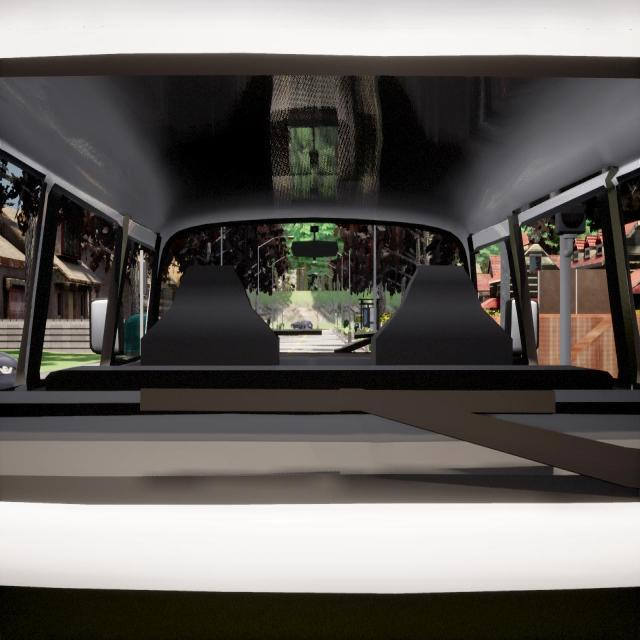Vehicle: (0, 1, 640, 640), (290, 320, 313, 329)
traffic_light: (553, 198, 586, 234), (138, 260, 148, 297), (335, 309, 337, 316)
